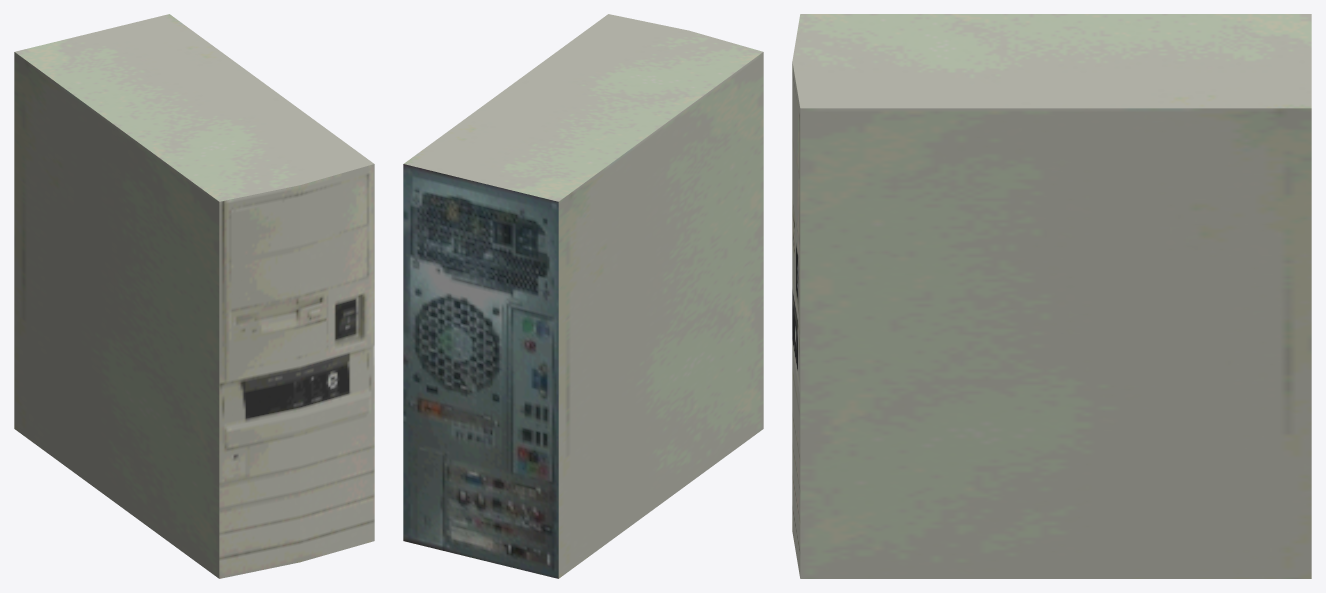
The model's file is computer_tower.obj.
The picture shows the model from 3 angles, left to right: view 1: azimuth 30°, elevation 25°; view 2: azimuth 150°, elevation 25°; view 3: azimuth 270°, elevation 25°; orthographic projection. The views are drawn at different scales.
Parts seen in each view (by area): view 1: computer_tower; view 2: computer_tower; view 3: computer_tower.
Boxes of the visible parts, left/top/right/bottom form: computer_tower: left=14, top=14, right=374, bottom=578; computer_tower: left=403, top=14, right=763, bottom=578; computer_tower: left=792, top=14, right=1311, bottom=578.
Size of the model in its own units: 0.2622 by 0.6091 by 0.6091.
